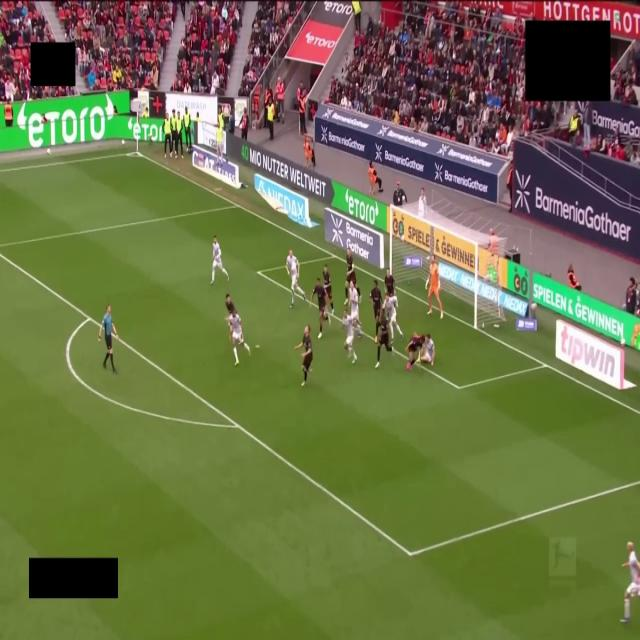player: (621, 542, 639, 623), (228, 311, 250, 366), (286, 250, 306, 308), (311, 279, 330, 338), (426, 256, 443, 319), (295, 326, 312, 386), (384, 294, 403, 342), (376, 311, 392, 368), (211, 236, 228, 284), (345, 249, 359, 305), (348, 282, 362, 337), (370, 280, 382, 343), (343, 310, 357, 363), (406, 334, 425, 370), (323, 265, 334, 313), (420, 334, 434, 366), (384, 269, 395, 295), (225, 293, 236, 315)
referee: (98, 305, 117, 373)
